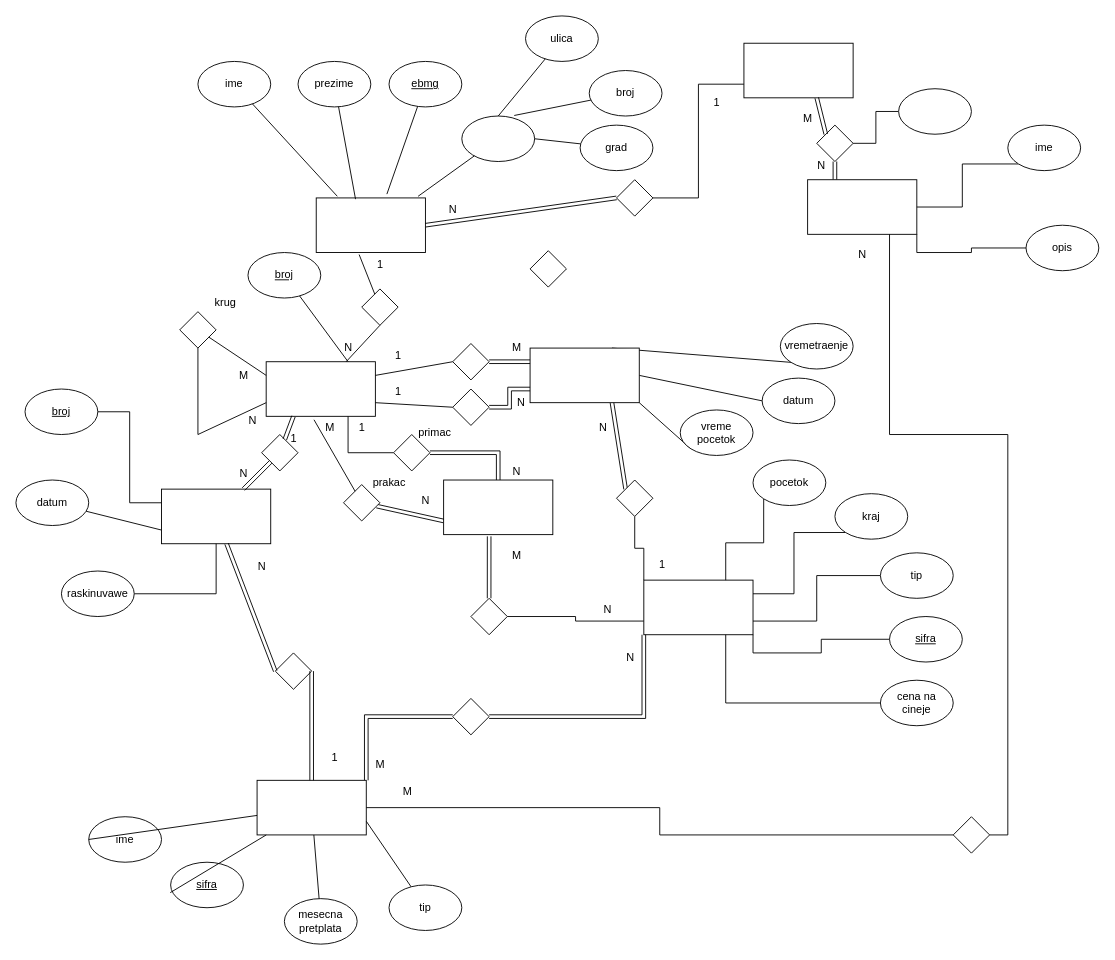
Some shapes in this 1115 by 960 pixel diagram are drawn without their labels. Each missing label, with the centre of its shape:
"adresa" goes at point (498, 138).
"cena" goes at point (934, 111).
"DOGOVOR" goes at point (216, 516).
"DOPOLNITELNA USLUGA" goes at point (862, 206).
"KORISNIK" goes at point (370, 225).
"paket" goes at point (311, 807).
"RAZGOVOR" goes at point (584, 375).
"SMS PORAKA" goes at point (498, 507).
"TARIFA" goes at point (698, 607).
"telefonski broj" goes at point (320, 388).
"TTIP KORISNIK" goes at point (798, 70).
